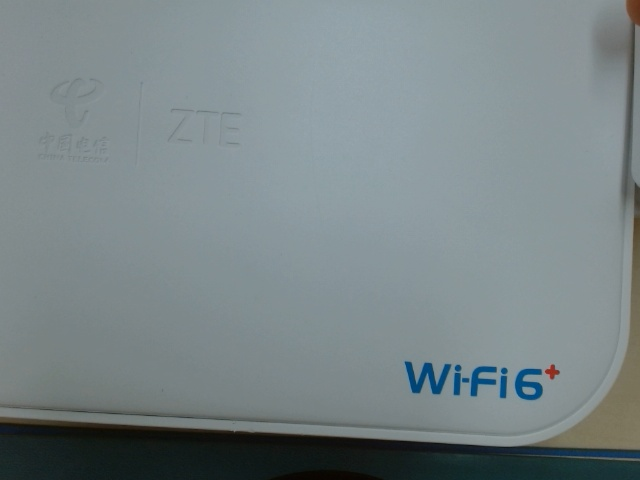AJ_ZTEWIFI6Plus: (399, 350, 563, 405)
